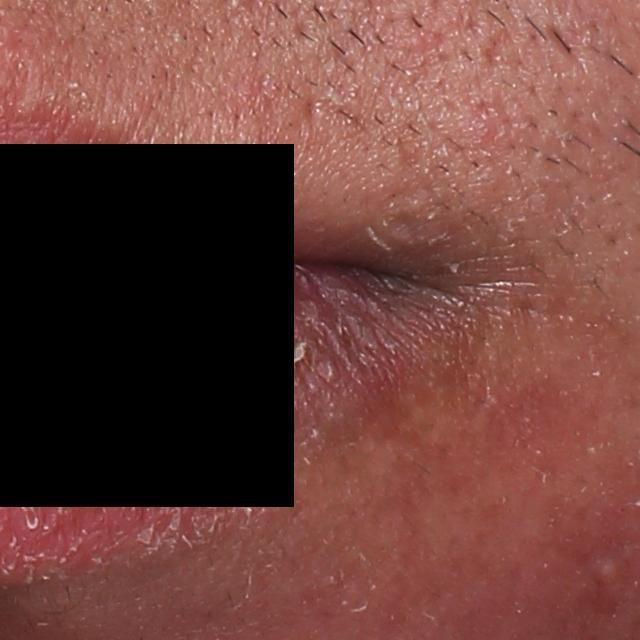atrophic_scar: (468, 93, 508, 161), (486, 27, 511, 67)
